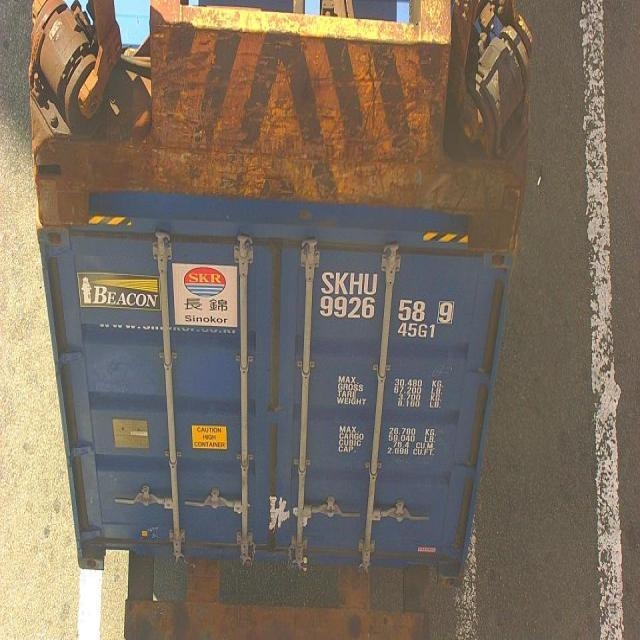ISO: (399, 322, 436, 340)
container_number: (318, 268, 454, 326)
